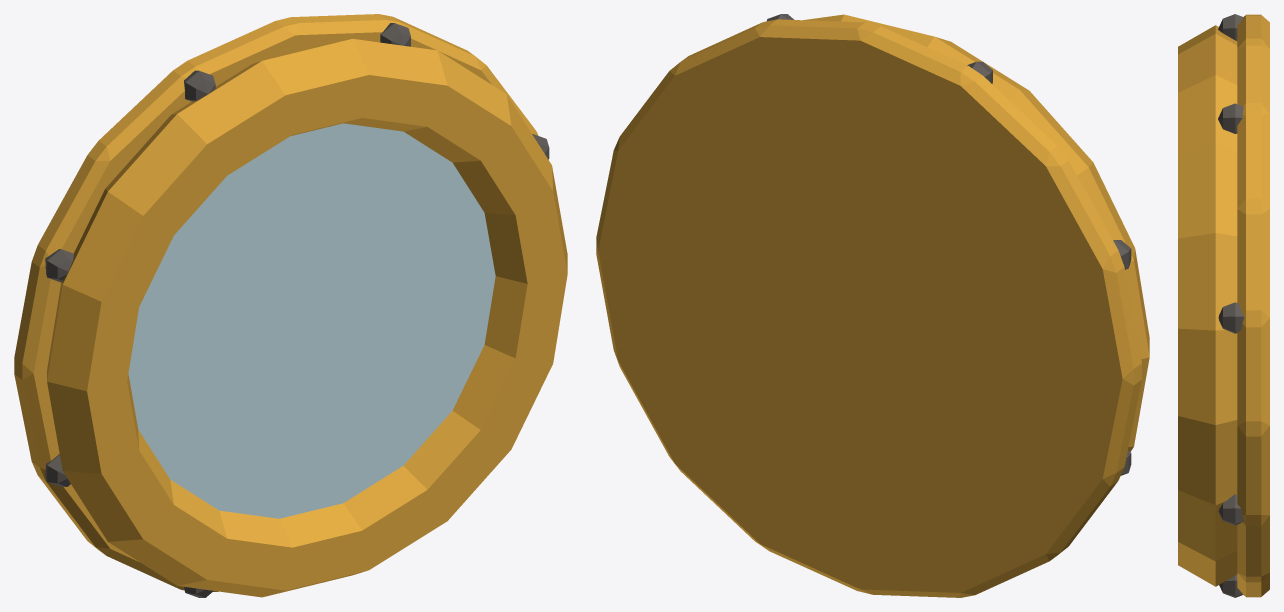
Rendered from porthole_mirror.glb.
3 renders of one model, left to right at view 1: azimuth 30°, elevation 25°; view 2: azimuth 150°, elevation 25°; view 3: azimuth 270°, elevation 25°, orthographic. The views are drawn at different scales.
Visible parts, largest first — view 1: porthole_mirror; view 2: porthole_mirror; view 3: porthole_mirror.
Boxes of the visible parts, x1,y1,x2,y2 form: porthole_mirror: (14, 14, 567, 597); porthole_mirror: (596, 14, 1149, 597); porthole_mirror: (1178, 14, 1269, 597).
Size of the model in its own units: 0.5369 by 0.5369 by 0.0846.
